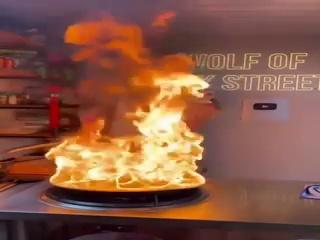Fire: (30, 57, 209, 194)
